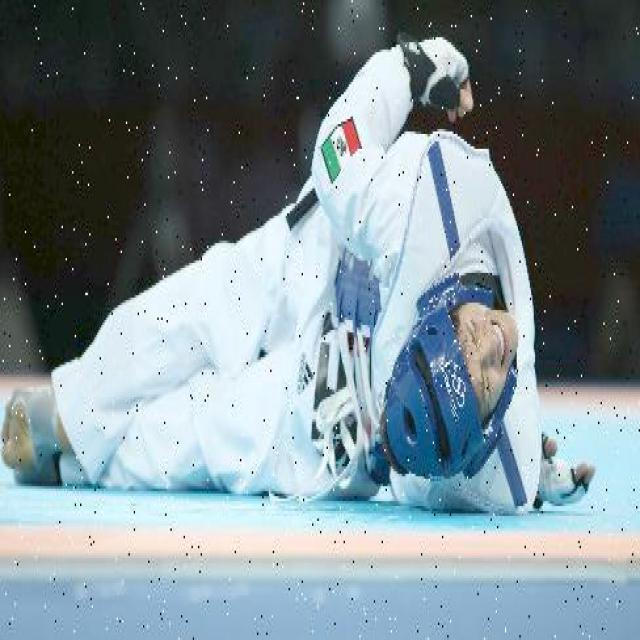fall: (2, 67, 596, 511)
